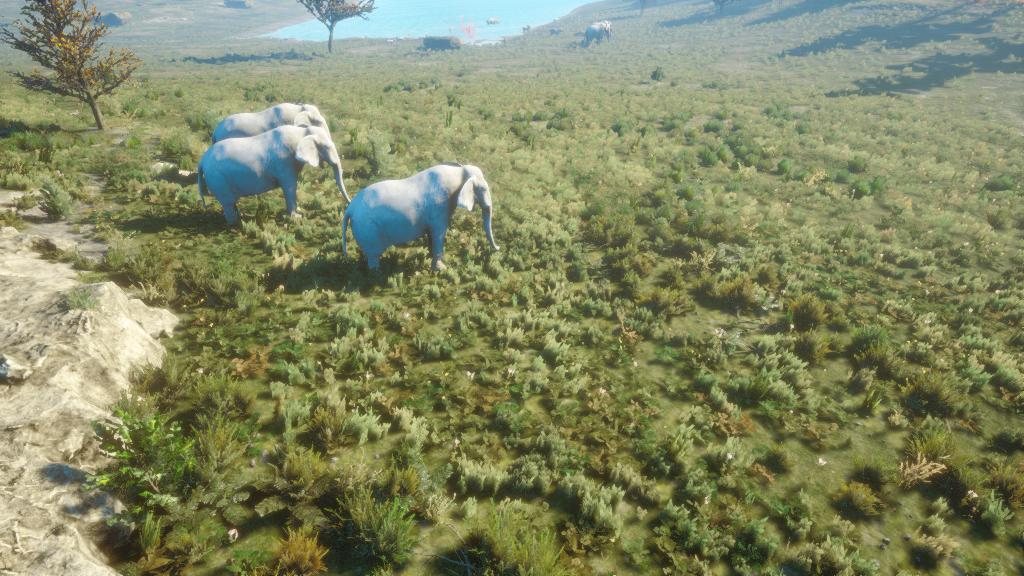Fire: (458, 16, 479, 39), (485, 16, 504, 26)
elephant: (335, 161, 503, 288), (195, 124, 341, 230), (203, 100, 350, 176), (582, 18, 613, 46)
hippopotamus: (547, 27, 565, 38)
human: (501, 37, 508, 47), (406, 30, 413, 39), (447, 26, 454, 34), (424, 30, 430, 38)
lion: (519, 23, 534, 34)
pig: (386, 38, 395, 46), (418, 35, 426, 41), (396, 36, 405, 41)
zebra: (552, 15, 564, 24)
